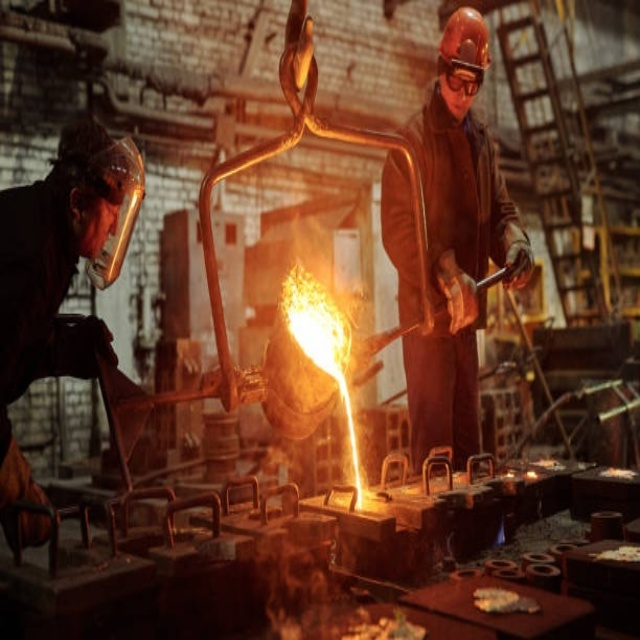Gafas: (440, 66, 481, 96)
Guantes: (3, 433, 61, 574), (431, 240, 479, 334), (494, 216, 536, 292)
Sin_mascara: (87, 226, 117, 260), (445, 96, 467, 121)
